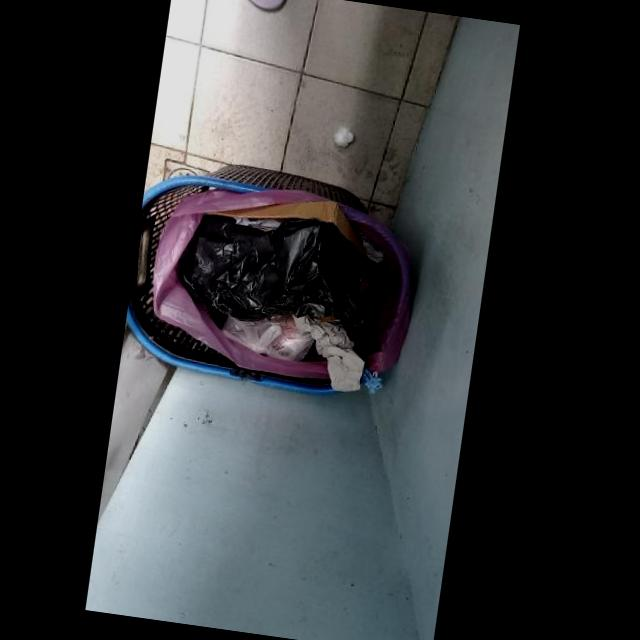carton: (206, 201, 368, 260)
giay: (292, 314, 365, 392)
tui_ni_long: (183, 214, 365, 325), (222, 314, 314, 361)
